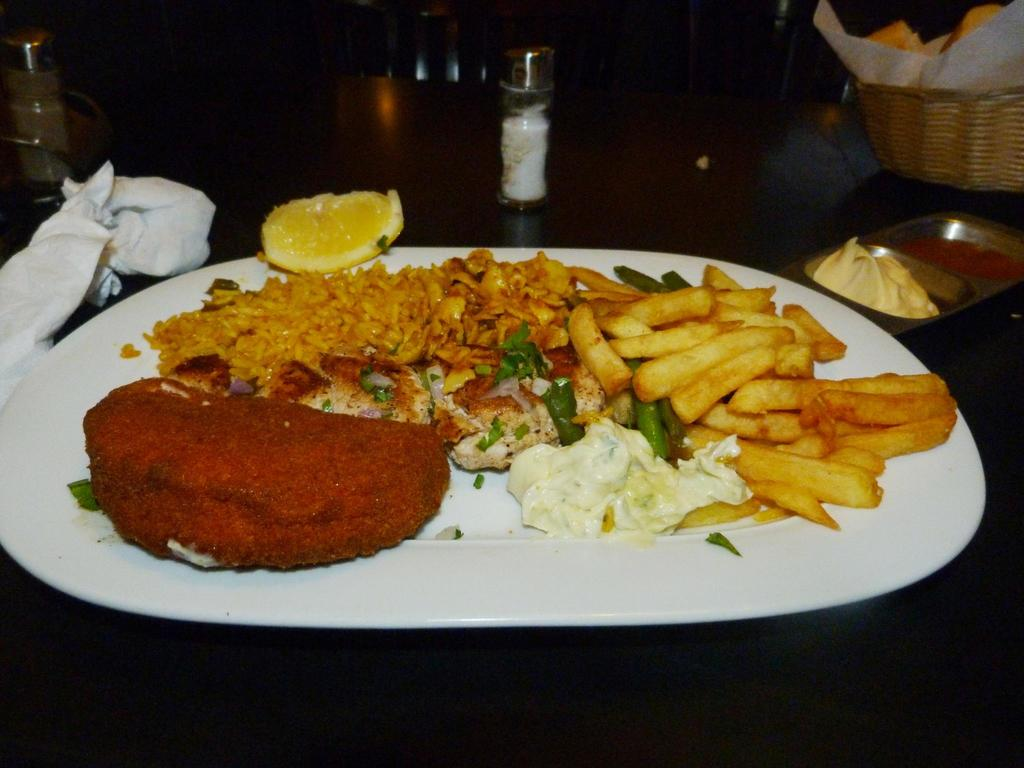French fries: (528, 272, 912, 505)
